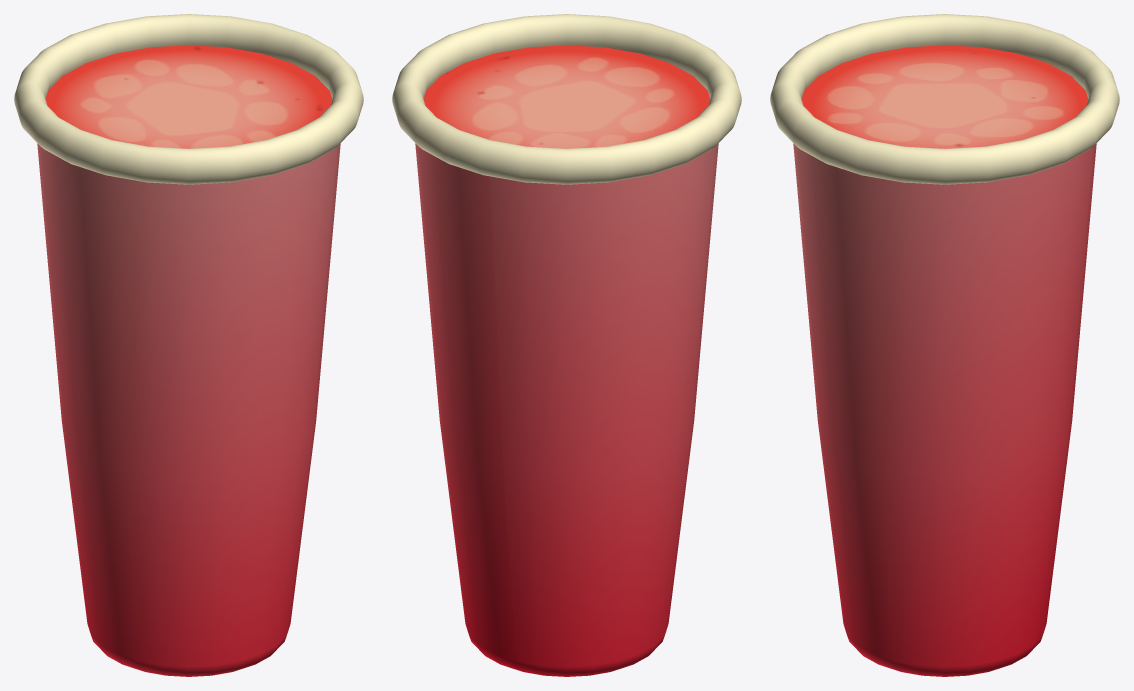
The model's file is SM_PinkCoffeMug_01a.fbx.
3 views of the same model, side by side, from view 1: azimuth 30°, elevation 25°; view 2: azimuth 150°, elevation 25°; view 3: azimuth 270°, elevation 25° (orthographic).
Visible parts, largest first — view 1: SM_PinkCoffeMug_01a; view 2: SM_PinkCoffeMug_01a; view 3: SM_PinkCoffeMug_01a.
Boxes of the visible parts, x1=… form: SM_PinkCoffeMug_01a: x1=14, y1=14, x2=363, y2=676; SM_PinkCoffeMug_01a: x1=392, y1=14, x2=741, y2=676; SM_PinkCoffeMug_01a: x1=770, y1=14, x2=1119, y2=676.
Bounding box in the file's own units: 37.25 × 65.7 × 37.25.
